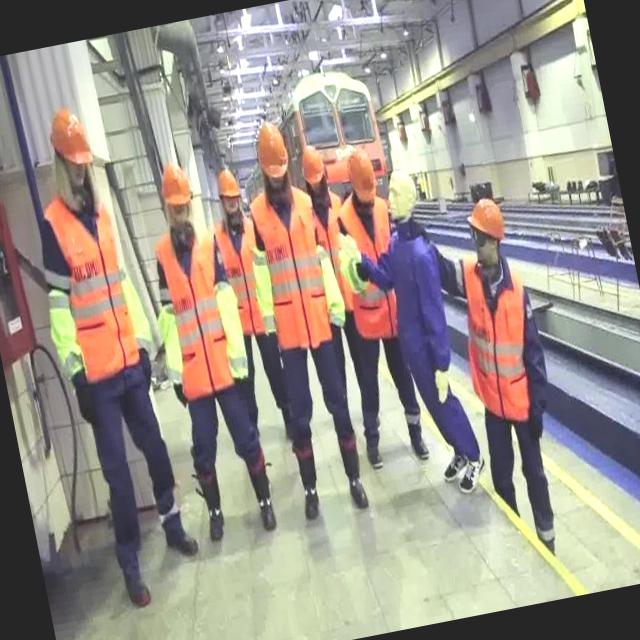boots: (144, 492, 209, 570), (110, 551, 167, 620), (452, 446, 493, 500), (199, 496, 239, 550), (398, 418, 438, 469), (429, 438, 474, 482)
gloves: (193, 270, 262, 391), (29, 277, 102, 389), (94, 252, 167, 362), (300, 229, 360, 335), (148, 288, 202, 393), (240, 242, 292, 334), (422, 342, 458, 412)
helmet: (45, 108, 95, 172), (252, 121, 292, 182), (344, 146, 381, 208), (462, 195, 507, 242), (156, 160, 193, 212), (297, 143, 328, 187), (214, 168, 241, 204)
no-helmet: (380, 158, 430, 232)
vest: (41, 188, 141, 382), (449, 248, 550, 430), (153, 225, 244, 402), (248, 184, 338, 354), (334, 188, 414, 344), (212, 208, 275, 336), (308, 190, 360, 314)
